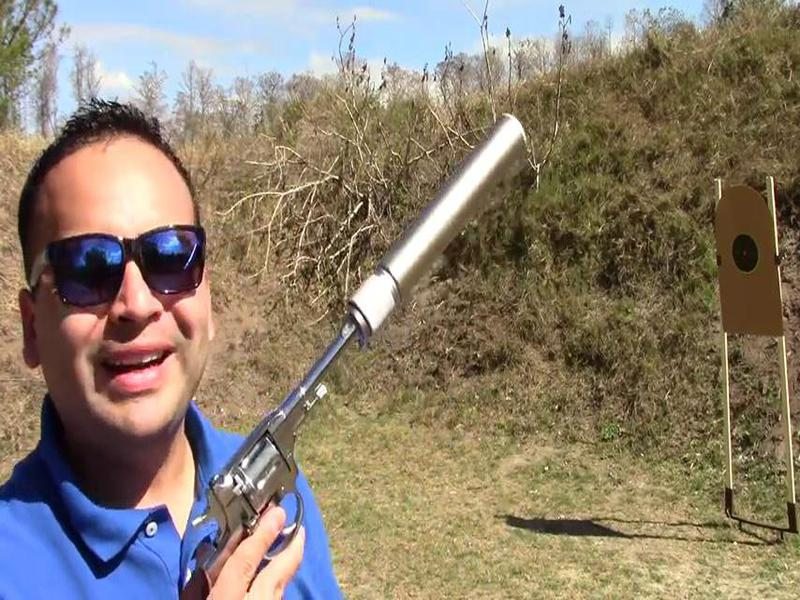Revolver: (160, 294, 375, 588)
